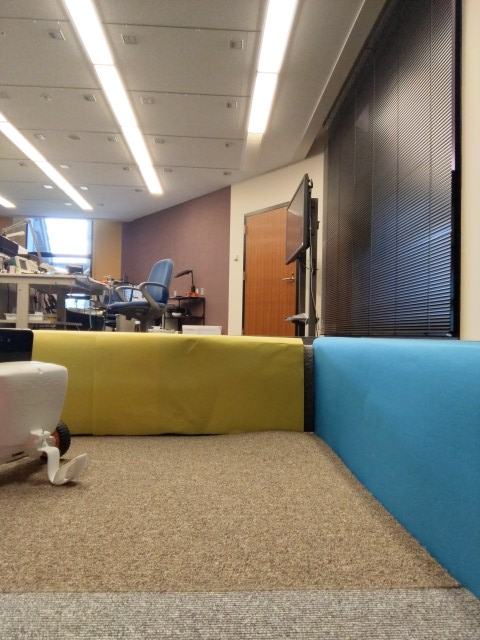bl: (1, 324, 90, 493)
